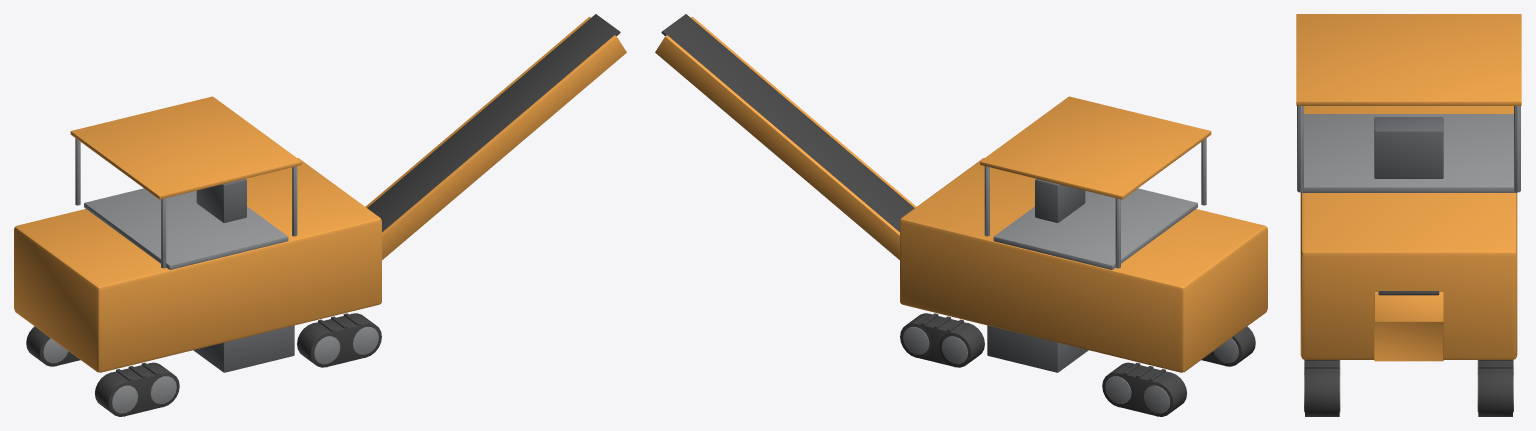
The model's file is EQP-ASF-003_lod1.glb.
3 renders of one model, left to right at view 1: azimuth 30°, elevation 25°; view 2: azimuth 150°, elevation 25°; view 3: azimuth 270°, elevation 25°, orthographic. The views are drawn at different scales.
Parts seen in each view (by area): view 1: EQP-ASF-003_corpo, EQP-ASF-003_capota, EQP-ASF-003_correia, EQP-ASF-003_plataforma, EQP-ASF-003_esteira_carga, EQP-ASF-003_tambor_cx, EQP-ASF-003_painel, EQP-ASF-003_esteira-11.4_corpo, EQP-ASF-003_esteira-1-2.0_corpo, EQP-ASF-003_esteira-1-2.0_ponta0, EQP-ASF-003_esteira-11.4_ponta0, EQP-ASF-003_esteira1-2.0_ponta0 (+4 smaller); view 2: EQP-ASF-003_corpo, EQP-ASF-003_capota, EQP-ASF-003_correia, EQP-ASF-003_plataforma, EQP-ASF-003_esteira_carga, EQP-ASF-003_tambor_cx, EQP-ASF-003_painel, EQP-ASF-003_esteira1-2.0_corpo, EQP-ASF-003_esteira11.4_ponta0, EQP-ASF-003_esteira11.4_corpo, EQP-ASF-003_esteira1-2.0_ponta0, EQP-ASF-003_esteira-1-2.0_ponta0 (+4 smaller); view 3: EQP-ASF-003_corpo, EQP-ASF-003_capota, EQP-ASF-003_plataforma, EQP-ASF-003_esteira_carga, EQP-ASF-003_painel, EQP-ASF-003_esteira11.4_ponta1, EQP-ASF-003_esteira-11.4_ponta1, EQP-ASF-003_poste2, EQP-ASF-003_poste3, EQP-ASF-003_esteira11.4_corpo, EQP-ASF-003_esteira-11.4_corpo, EQP-ASF-003_correia.
Boxes of the visible parts, x1,y1,x2,y2 form: EQP-ASF-003_corpo: (14, 158, 381, 372); EQP-ASF-003_capota: (70, 96, 301, 199); EQP-ASF-003_correia: (367, 14, 620, 231); EQP-ASF-003_plataforma: (84, 188, 288, 269); EQP-ASF-003_esteira_carga: (365, 16, 626, 259); EQP-ASF-003_tambor_cx: (193, 325, 294, 372); EQP-ASF-003_painel: (196, 178, 246, 222); EQP-ASF-003_esteira-11.4_corpo: (314, 314, 364, 366); EQP-ASF-003_esteira-1-2.0_corpo: (112, 363, 162, 415); EQP-ASF-003_esteira-1-2.0_ponta0: (95, 372, 127, 416); EQP-ASF-003_esteira-11.4_ponta0: (297, 323, 328, 367); EQP-ASF-003_esteira1-2.0_ponta0: (26, 326, 58, 366); EQP-ASF-003_corpo: (900, 158, 1267, 372); EQP-ASF-003_capota: (980, 96, 1211, 199); EQP-ASF-003_correia: (661, 14, 914, 231); EQP-ASF-003_plataforma: (993, 188, 1197, 269); EQP-ASF-003_esteira_carga: (655, 16, 916, 259); EQP-ASF-003_tambor_cx: (987, 325, 1088, 372); EQP-ASF-003_painel: (1035, 178, 1085, 222); EQP-ASF-003_esteira1-2.0_corpo: (1119, 363, 1169, 415); EQP-ASF-003_esteira11.4_ponta0: (939, 323, 984, 367); EQP-ASF-003_esteira11.4_corpo: (917, 314, 967, 366); EQP-ASF-003_esteira1-2.0_ponta0: (1145, 372, 1186, 416); EQP-ASF-003_esteira-1-2.0_ponta0: (1211, 326, 1255, 366); EQP-ASF-003_corpo: (1300, 106, 1517, 359); EQP-ASF-003_capota: (1296, 14, 1521, 105); EQP-ASF-003_plataforma: (1301, 114, 1516, 192); EQP-ASF-003_esteira_carga: (1374, 292, 1443, 361); EQP-ASF-003_painel: (1374, 117, 1443, 178); EQP-ASF-003_esteira11.4_ponta1: (1478, 371, 1512, 416); EQP-ASF-003_esteira-11.4_ponta1: (1305, 371, 1339, 416); EQP-ASF-003_poste2: (1297, 106, 1303, 192); EQP-ASF-003_poste3: (1514, 106, 1520, 192); EQP-ASF-003_esteira11.4_corpo: (1478, 360, 1512, 371); EQP-ASF-003_esteira-11.4_corpo: (1305, 360, 1339, 371); EQP-ASF-003_correia: (1378, 291, 1439, 295).
Size of the model in its own units: 9.38 by 3.79 by 2.6.
